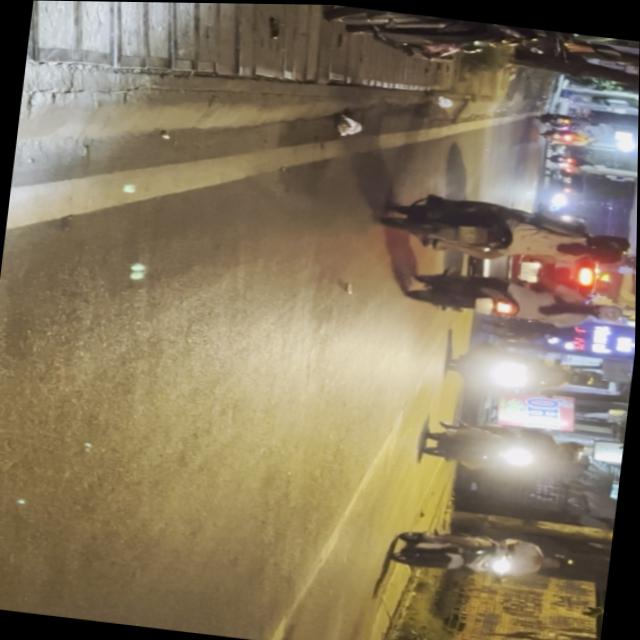helmet: (590, 300, 625, 321), (542, 552, 576, 572)
licenseplate: (379, 184, 638, 277), (399, 260, 630, 335), (387, 522, 579, 589)
motorcyclist: (581, 239, 625, 267)
nohelmet: (458, 224, 480, 245), (474, 295, 495, 313)
